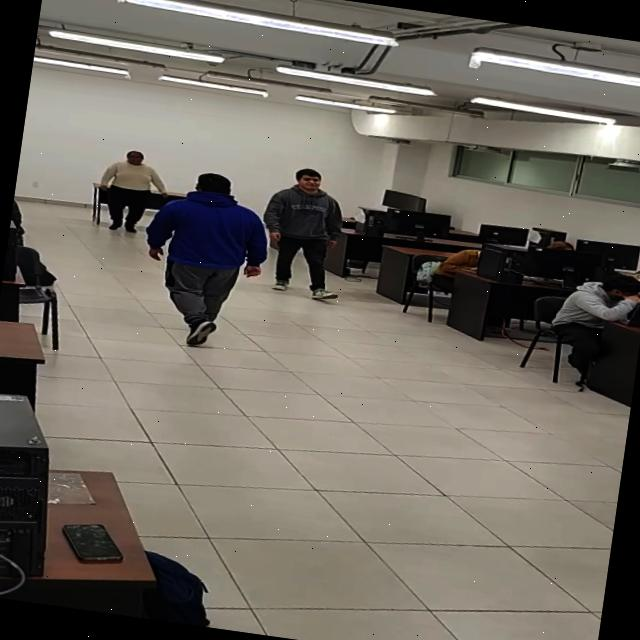Persona: (130, 164, 280, 356), (252, 162, 358, 304), (94, 146, 176, 239)
